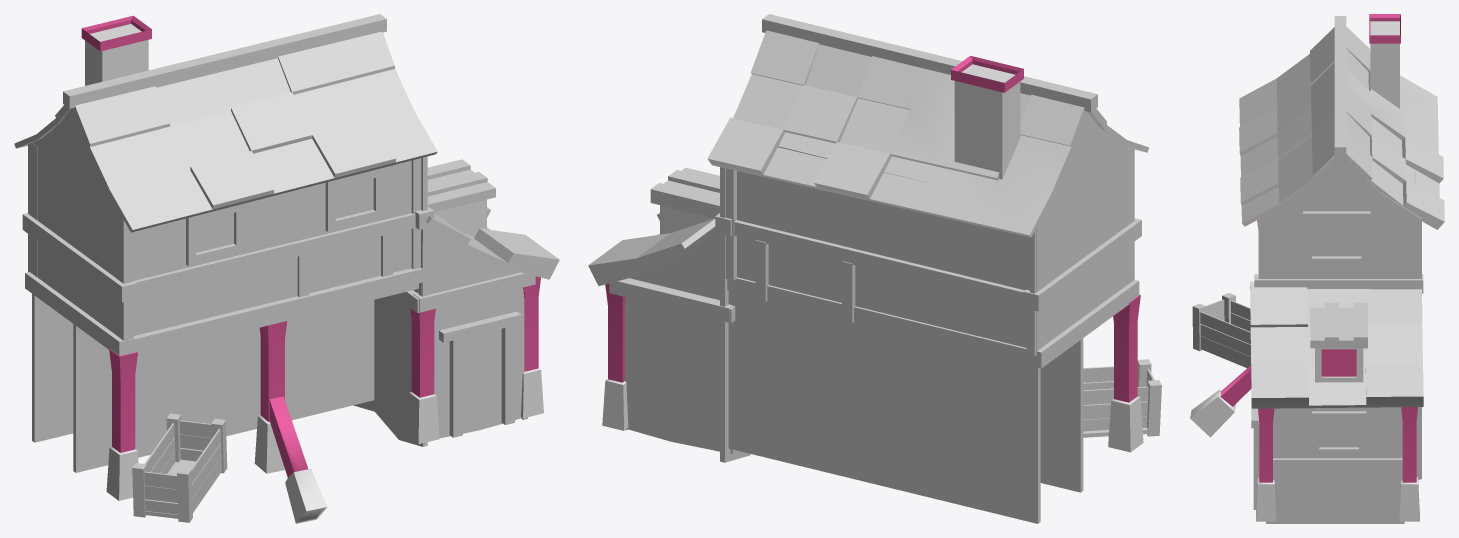
File: housewoodwdood.fbx
3 renders of one model, left to right at view 1: azimuth 30°, elevation 25°; view 2: azimuth 150°, elevation 25°; view 3: azimuth 270°, elevation 25°, orthographic. The views are drawn at different scales.
Parts seen in each view (by area): view 1: Cube.020, Cube.028, Cube.027, Cube.014, Cube.013, Cube.038, Cube.016, Cube.023, Cube.036, Cube.015, Cube.040, Cube.044; view 2: Cube.020, Cube.028, Cube.027, Cube.013, Cube.036, Cube.014, Cube.016, Cube.015, Cube.038, Cube.040, Cube.023, Cube.044; view 3: Cube.020, Cube.028, Cube.015, Cube.014, Cube.023, Cube.027, Cube.038, Cube.036, Cube.040, Cube.016, Cube.044.
Part boxes in pixels (bbox=[...]): Cube.020: bbox=[28, 32, 527, 472]; Cube.028: bbox=[14, 31, 437, 232]; Cube.027: bbox=[22, 143, 434, 355]; Cube.014: bbox=[106, 276, 543, 523]; Cube.013: bbox=[418, 227, 524, 438]; Cube.038: bbox=[132, 413, 227, 522]; Cube.016: bbox=[63, 14, 386, 108]; Cube.023: bbox=[393, 272, 535, 437]; Cube.036: bbox=[81, 15, 151, 85]; Cube.015: bbox=[426, 207, 559, 279]; Cube.040: bbox=[427, 159, 495, 212]; Cube.044: bbox=[434, 199, 486, 236]; Cube.020: bbox=[626, 111, 1129, 523]; Cube.028: bbox=[707, 30, 1148, 237]; Cube.027: bbox=[715, 147, 1141, 368]; Cube.013: bbox=[625, 233, 735, 454]; Cube.036: bbox=[951, 55, 1023, 179]; Cube.014: bbox=[602, 283, 1143, 452]; Cube.016: bbox=[762, 14, 1097, 112]; Cube.015: bbox=[588, 212, 716, 285]; Cube.038: bbox=[1083, 359, 1161, 437]; Cube.040: bbox=[650, 167, 719, 218]; Cube.023: bbox=[609, 278, 735, 323]; Cube.044: bbox=[660, 205, 714, 234]; Cube.020: bbox=[1258, 128, 1421, 523]; Cube.028: bbox=[1239, 27, 1444, 229]; Cube.015: bbox=[1250, 281, 1423, 408]; Cube.014: bbox=[1190, 220, 1419, 521]; Cube.023: bbox=[1251, 389, 1402, 518]; Cube.027: bbox=[1254, 211, 1423, 293]; Cube.038: bbox=[1192, 293, 1250, 367]; Cube.036: bbox=[1369, 14, 1400, 108]; Cube.040: bbox=[1310, 302, 1367, 348]; Cube.016: bbox=[1334, 16, 1346, 157]; Cube.044: bbox=[1315, 348, 1363, 382].
Size of the model in its own units: 1796 by 1709 by 1058.
